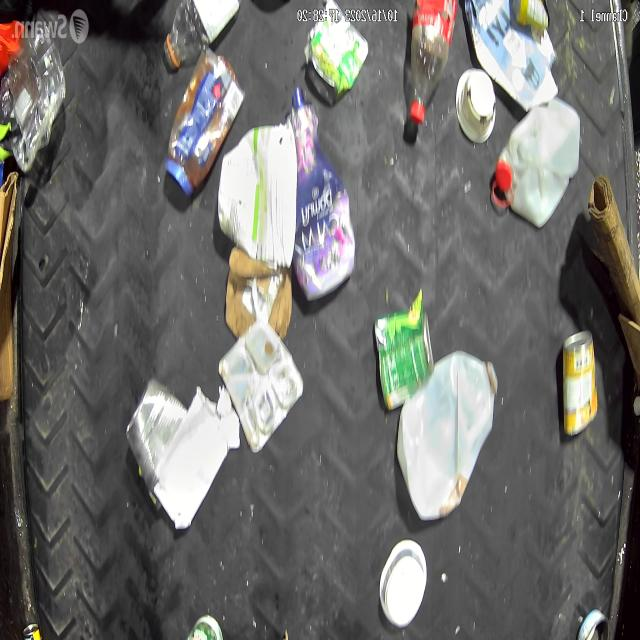can: (372, 292, 441, 418), (126, 371, 190, 493), (558, 325, 602, 444)
milk_jug: (398, 352, 502, 520), (492, 83, 582, 231)
non_white_jug: (287, 83, 354, 313)
plastic_bottle: (406, 0, 459, 144)
